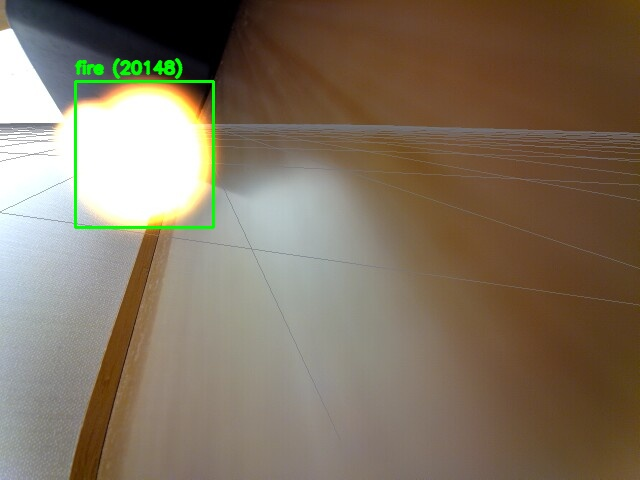fire: (75, 81, 213, 227)
